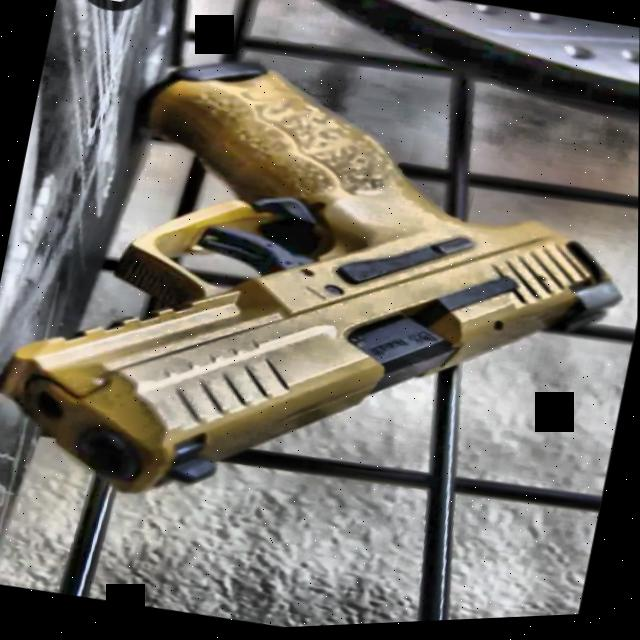HKVP9: (5, 14, 640, 569)
